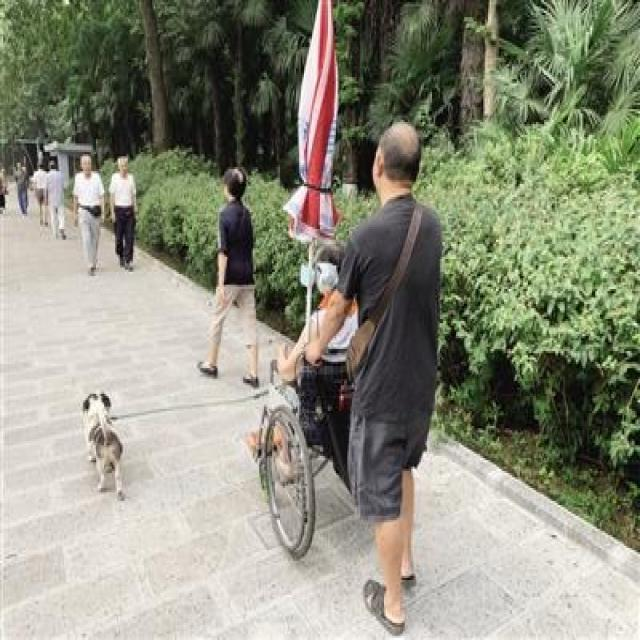wheelchairs: (236, 310, 433, 568)
